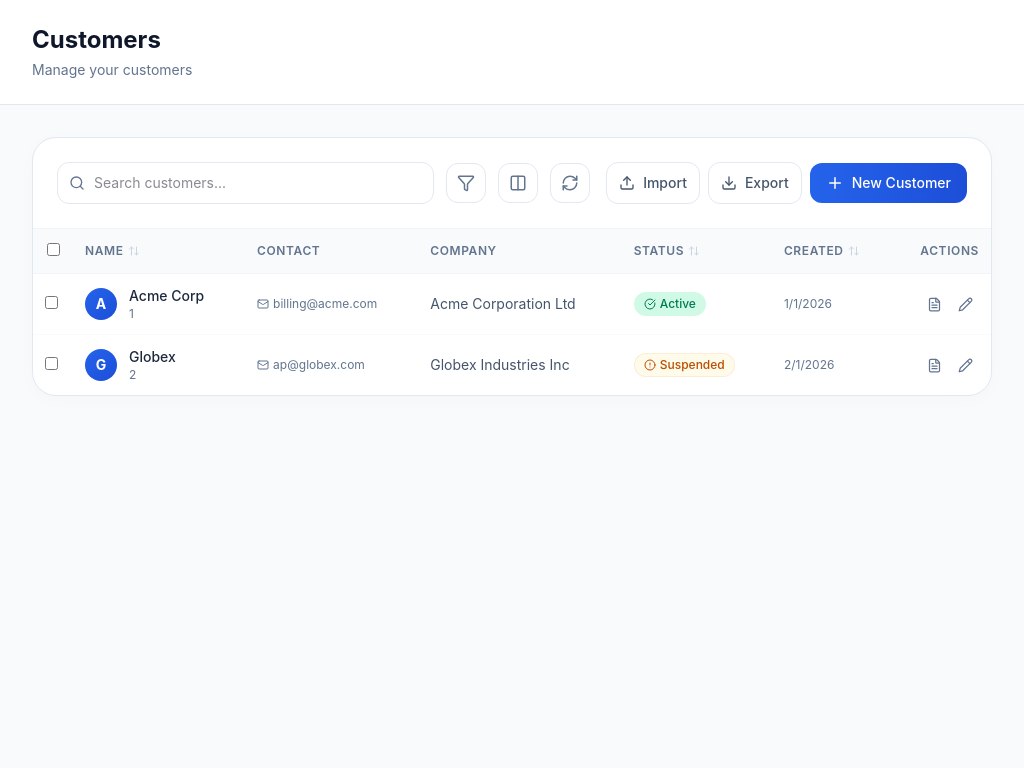
Test: CustomerListPage › blocks customer creation without a company name or a valid email
Expected: the text "Acme Corp" is shown, [129,286,204,306]
Click the button "New Customer" at point(888, 183), box [810,163,967,203]
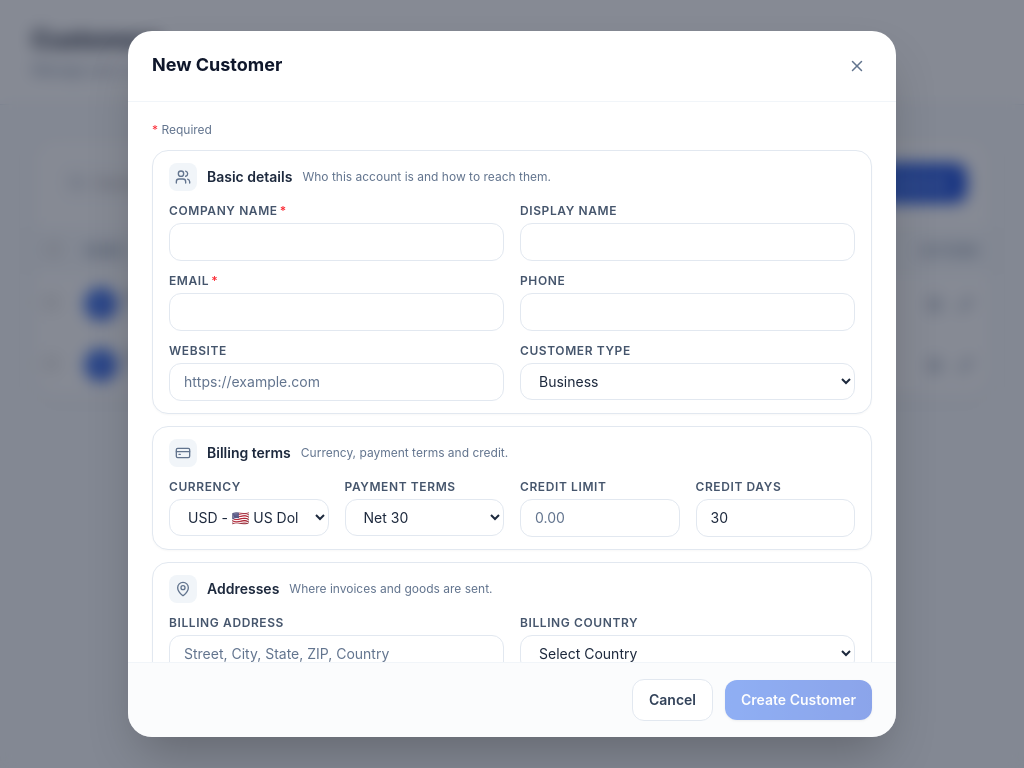
Expected: the button "Create Customer" is disabled, [725,680,872,720]
Type "New Co" into the field labelled "Company Name*" at point(336, 242), box [169,223,504,261]
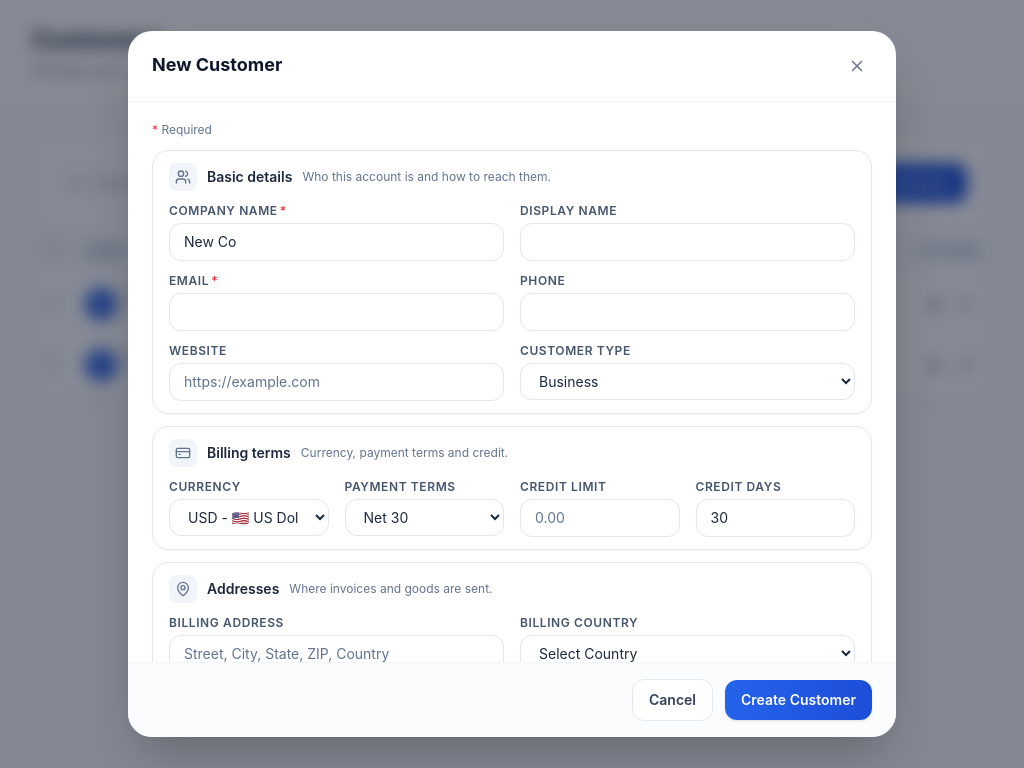
Expected: the button "Create Customer" is enabled
Click the button "Create Customer" at point(798, 700), box [725,680,872,720]
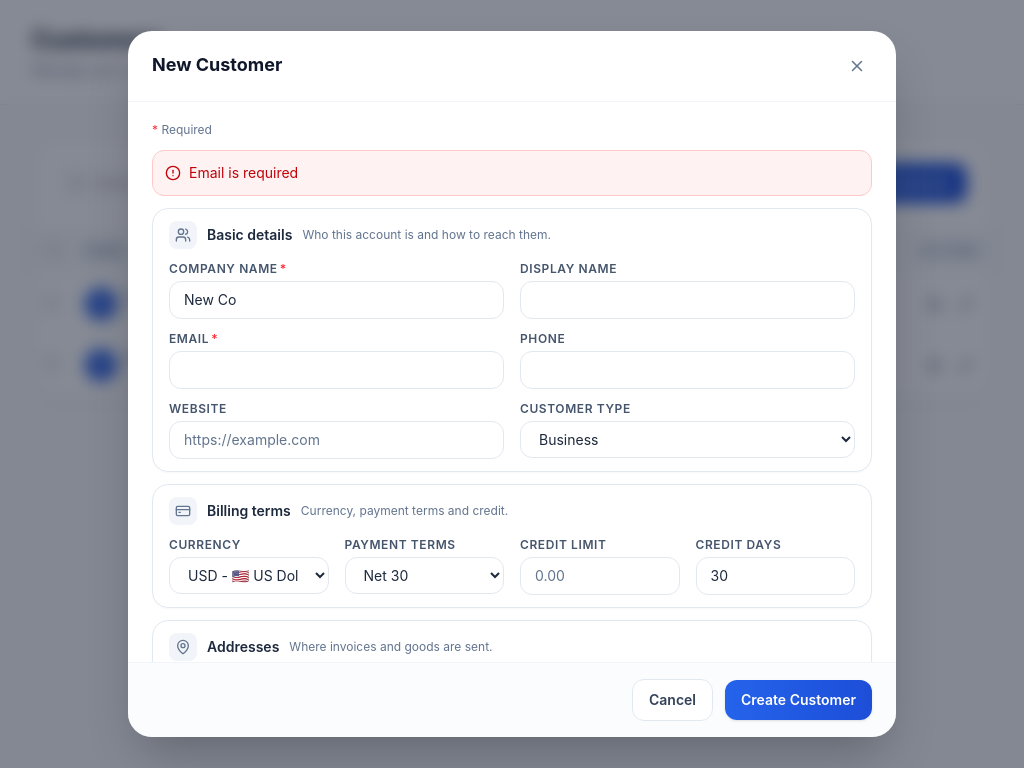
Expected: the text "Email is required" is shown, [189,163,298,183]
